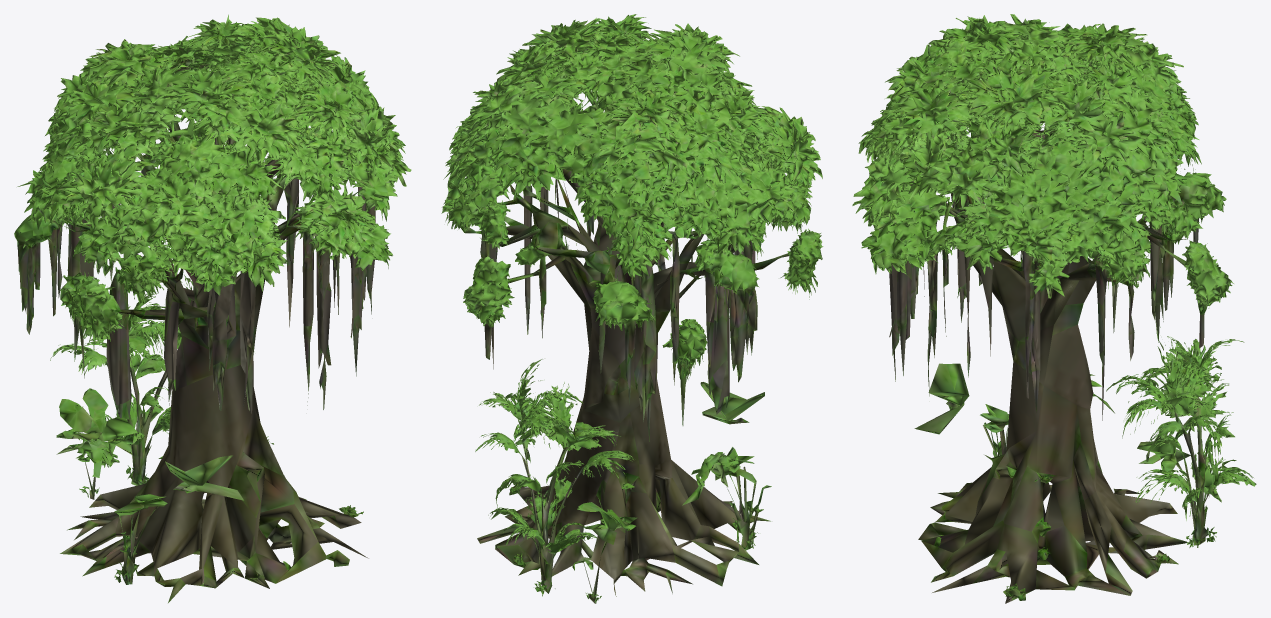
File: tree.glb
3 views of the same model, side by side, from view 1: azimuth 30°, elevation 25°; view 2: azimuth 150°, elevation 25°; view 3: azimuth 270°, elevation 25° (orthographic). The views are drawn at different scales.
Size of the model in its own units: 1.37 by 1.89 by 1.36.
Materials: 1 (1 with a texture image).
